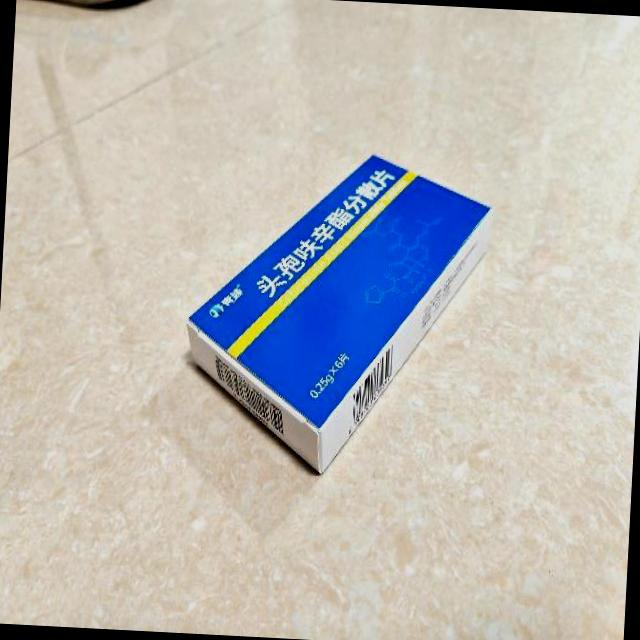box: (180, 144, 497, 482)
